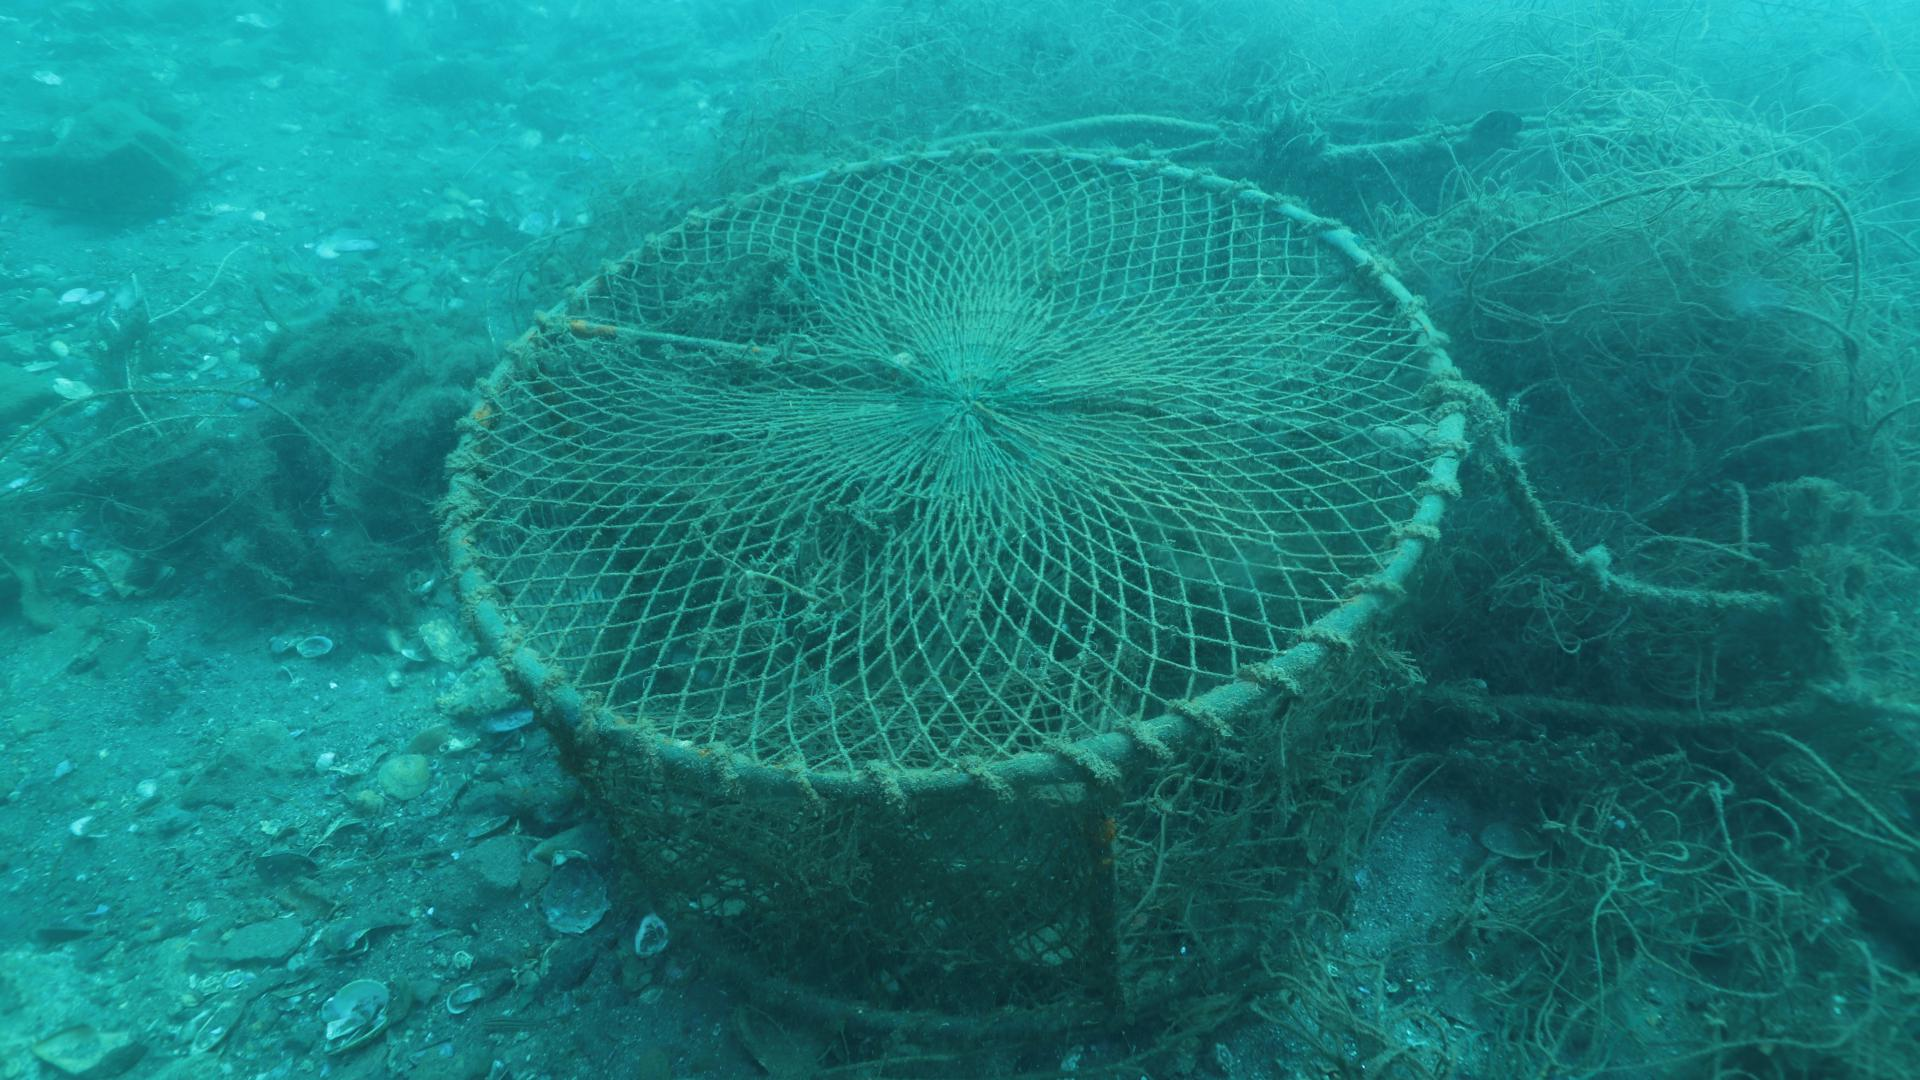circular fish trap: (440, 138, 1470, 1040)
